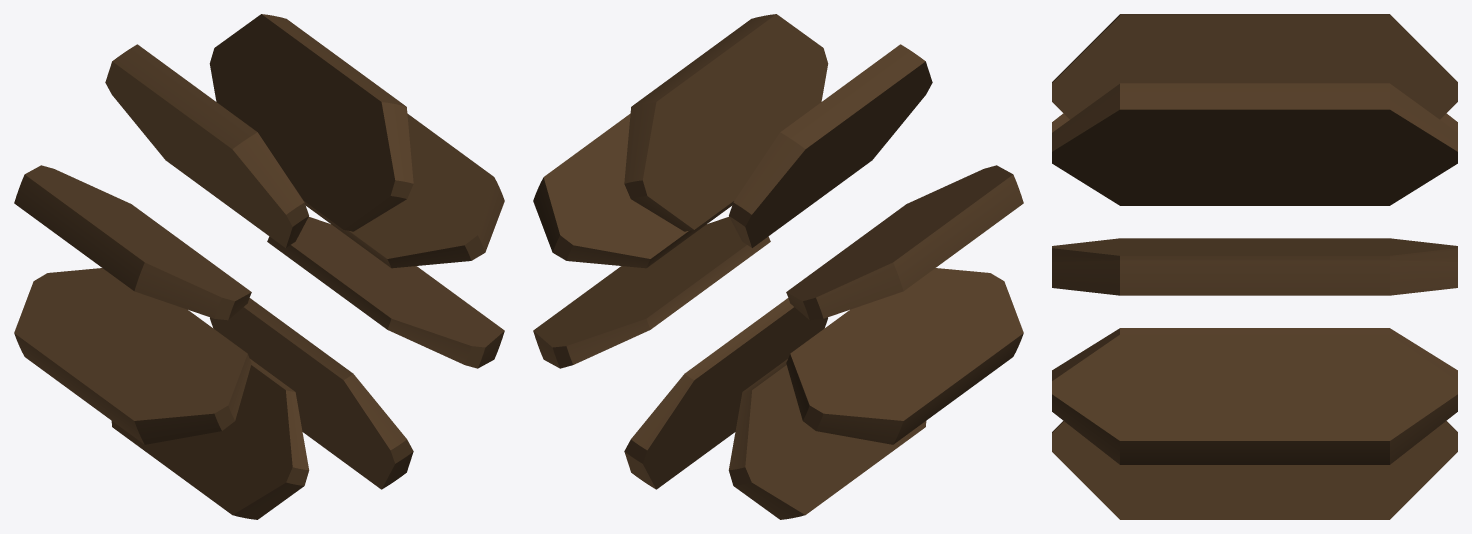
The model's file is er1_confinement.obj.
3 renders of one model, left to right at view 1: azimuth 30°, elevation 25°; view 2: azimuth 150°, elevation 25°; view 3: azimuth 270°, elevation 25°, orthographic. The views are drawn at different scales.
Parts seen in each view (by area): view 1: er1_confinement; view 2: er1_confinement; view 3: er1_confinement.
Part boxes in pixels (x1,y1,x2,y2): er1_confinement: [14, 14, 504, 519]; er1_confinement: [533, 14, 1023, 519]; er1_confinement: [1052, 14, 1457, 519].
Bounding box in the file's own units: 2.02 × 2.02 × 1.7.
